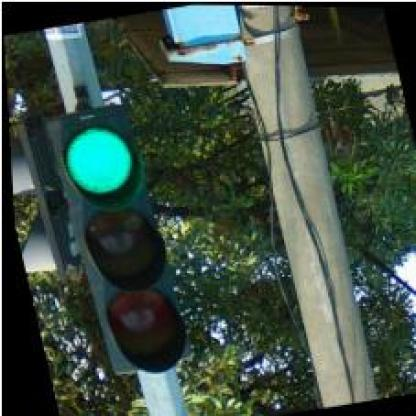green: (41, 102, 182, 378)
